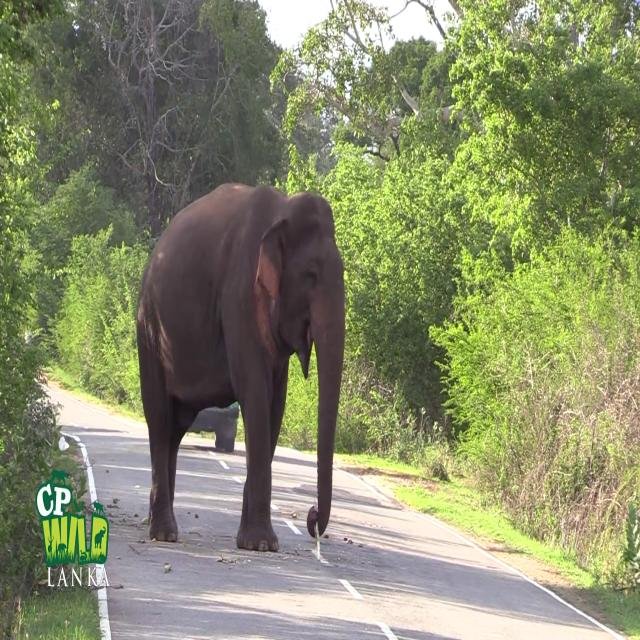Elephant: (136, 181, 345, 553)
